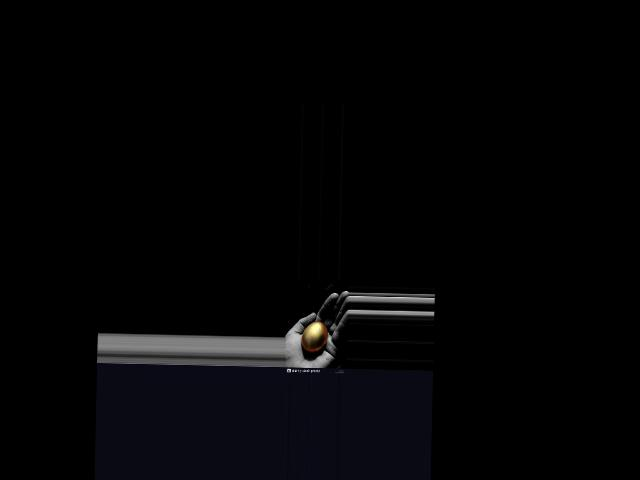egg: (301, 321, 328, 352)
